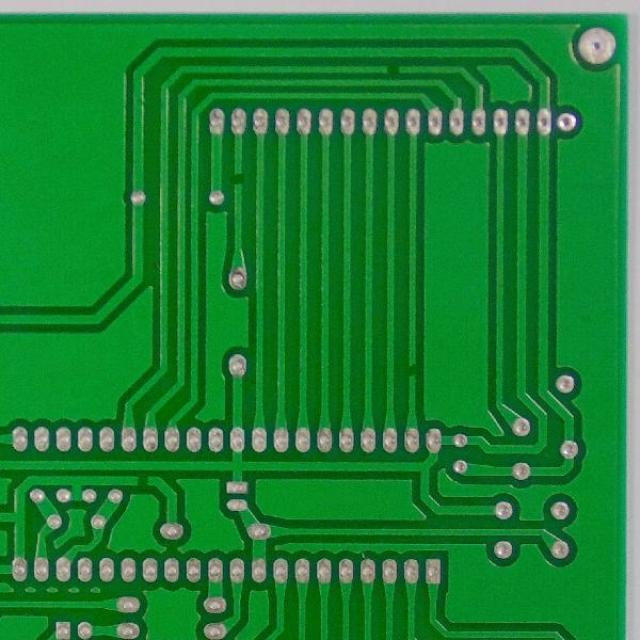Open_Circuit: (228, 162, 248, 194), (376, 60, 409, 79), (402, 354, 420, 387), (129, 472, 157, 491)
